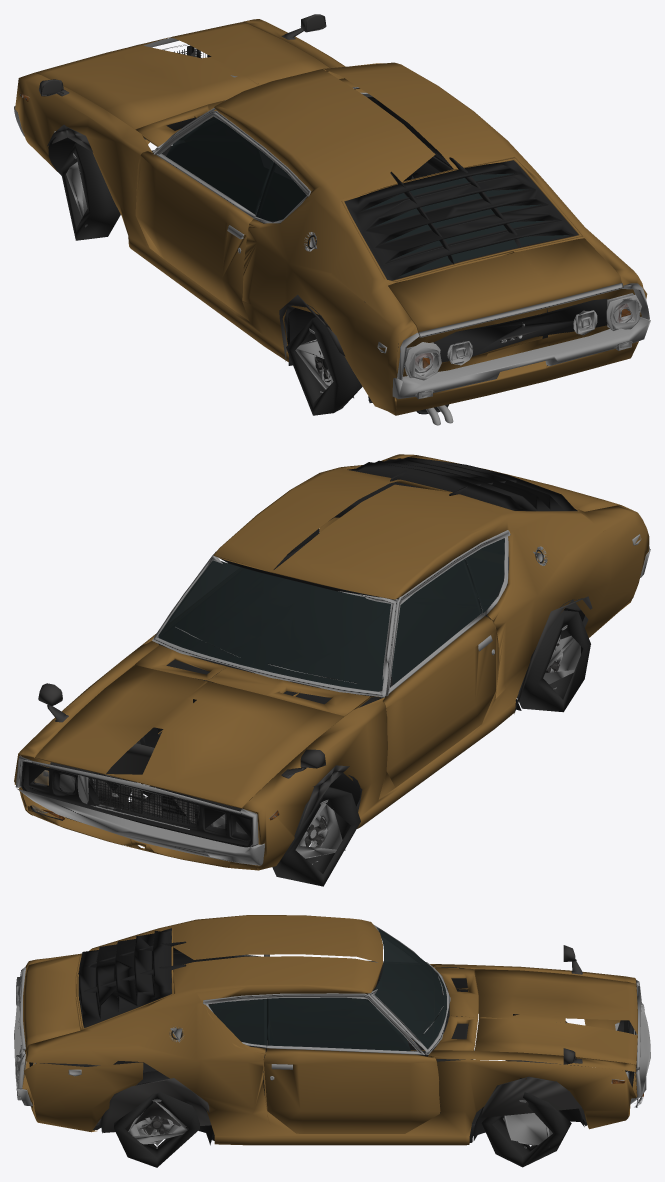
3 views of the same model, one above another, from view 1: azimuth 30°, elevation 25°; view 2: azimuth 150°, elevation 25°; view 3: azimuth 270°, elevation 25° (orthographic). The views are drawn at different scales.
Parts seen in each view (by area): view 1: paint (×2), black_matte (×4), chrome (×3), glass, tire (×2), black_paint (×2), alloy (×2); view 2: paint (×2), glass, black_matte (×5), chrome (×3), tire (×2), black_paint (×3), alloy (×2), headlights; view 3: paint (×2), glass, black_matte (×3), black_paint (×2), tire (×2), chrome (×4), alloy (×2).
Part boxes in pixels (bbox=[...]): paint (×2): bbox=[15, 19, 647, 415]; black_matte (×4): bbox=[48, 100, 609, 402]; chrome (×3): bbox=[152, 92, 650, 399]; glass: bbox=[166, 116, 568, 276]; tire (×2): bbox=[60, 143, 362, 415]; black_paint (×2): bbox=[19, 14, 398, 361]; alloy (×2): bbox=[66, 153, 353, 398]; paint (×2): bbox=[14, 454, 649, 870]; glass: bbox=[158, 539, 504, 691]; black_matte (×5): bbox=[21, 457, 588, 861]; chrome (×3): bbox=[15, 530, 510, 865]; tire (×2): bbox=[272, 610, 590, 886]; black_paint (×3): bbox=[38, 596, 592, 831]; alloy (×2): bbox=[295, 625, 580, 864]; headlights: bbox=[34, 770, 246, 834]; paint (×2): bbox=[22, 915, 637, 1145]; glass: bbox=[78, 928, 446, 1051]; black_matte (×3): bbox=[52, 928, 587, 1145]; black_paint (×2): bbox=[91, 945, 623, 1132]; tire (×2): bbox=[114, 1092, 571, 1167]; chrome (×4): bbox=[14, 925, 650, 1106]; alloy (×2): bbox=[128, 1099, 552, 1148].
Bounding box in the file's own units: 1.6 × 1.16 × 3.88.
